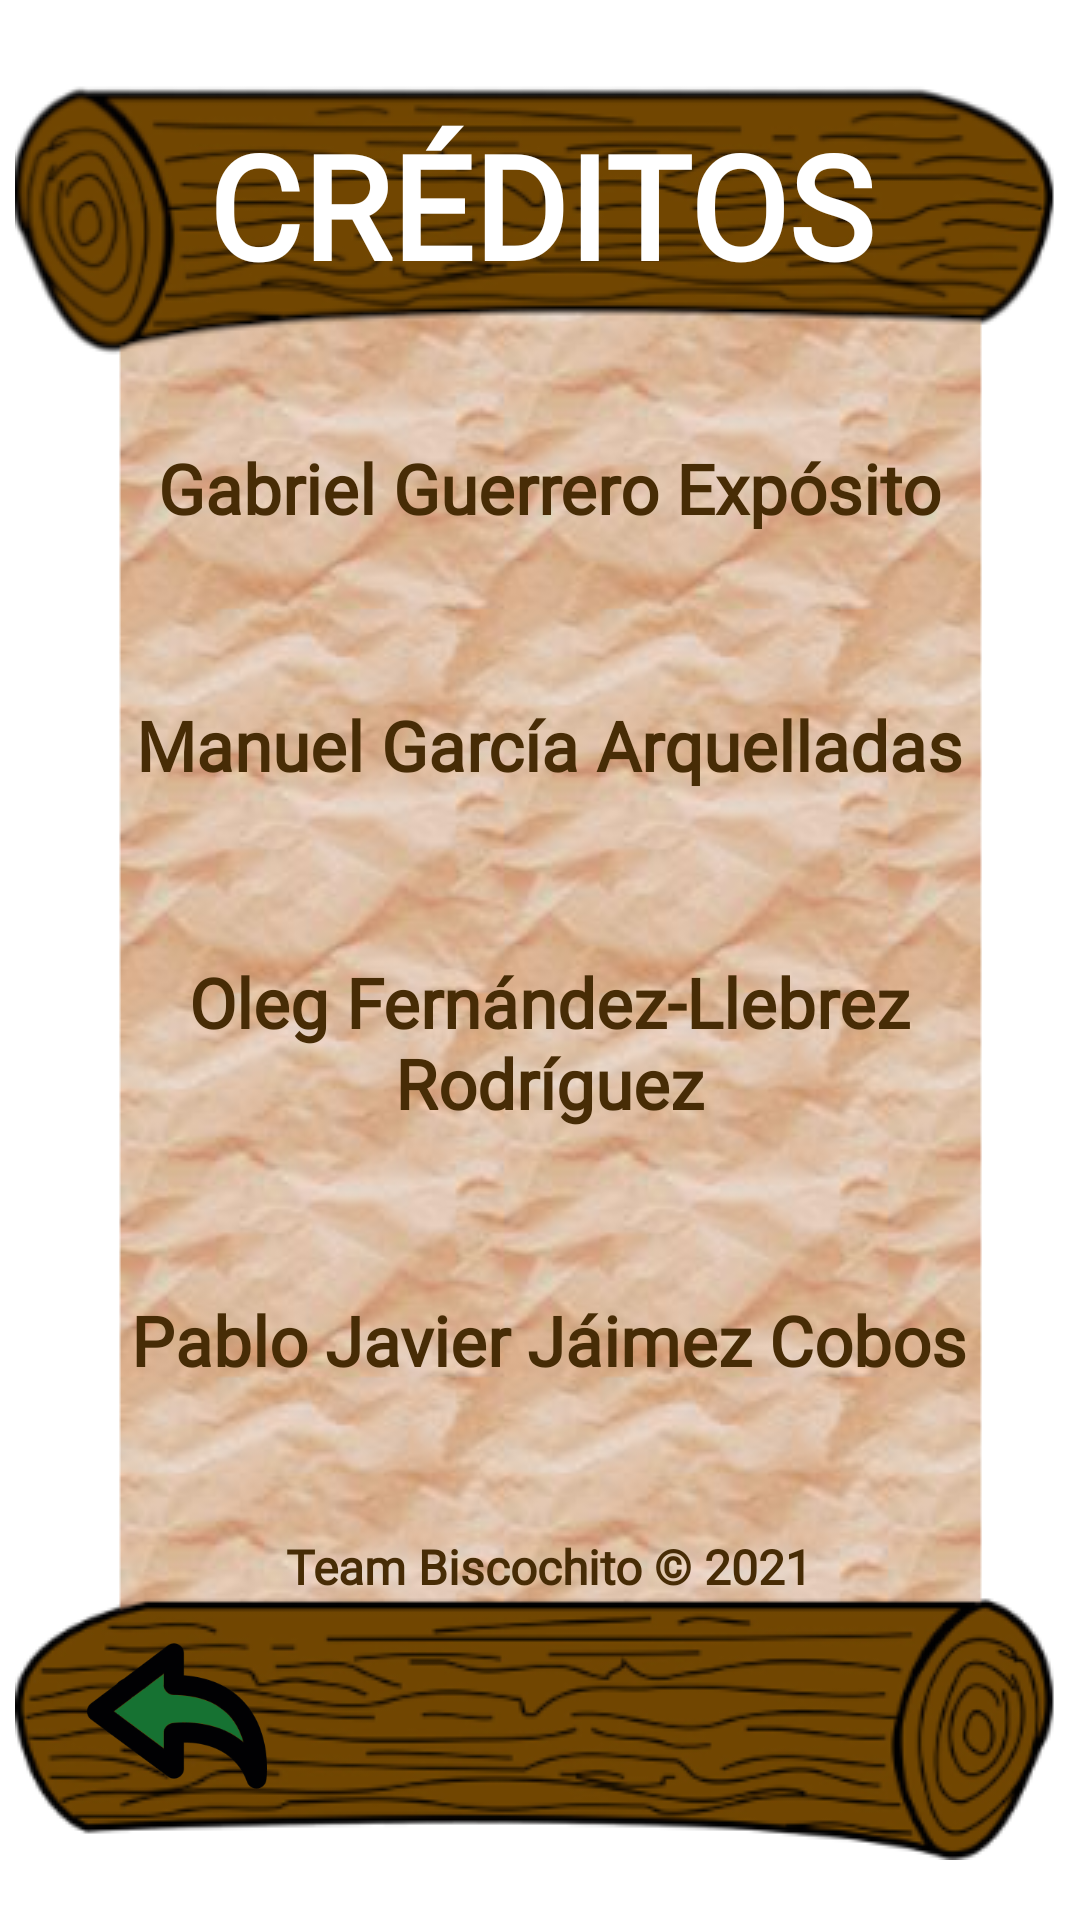

Screen size 1080 x 1920. Icon name, then its box in pixels as (x1, y1, x2, y2):
Atrás: (87, 1626, 267, 1806)
